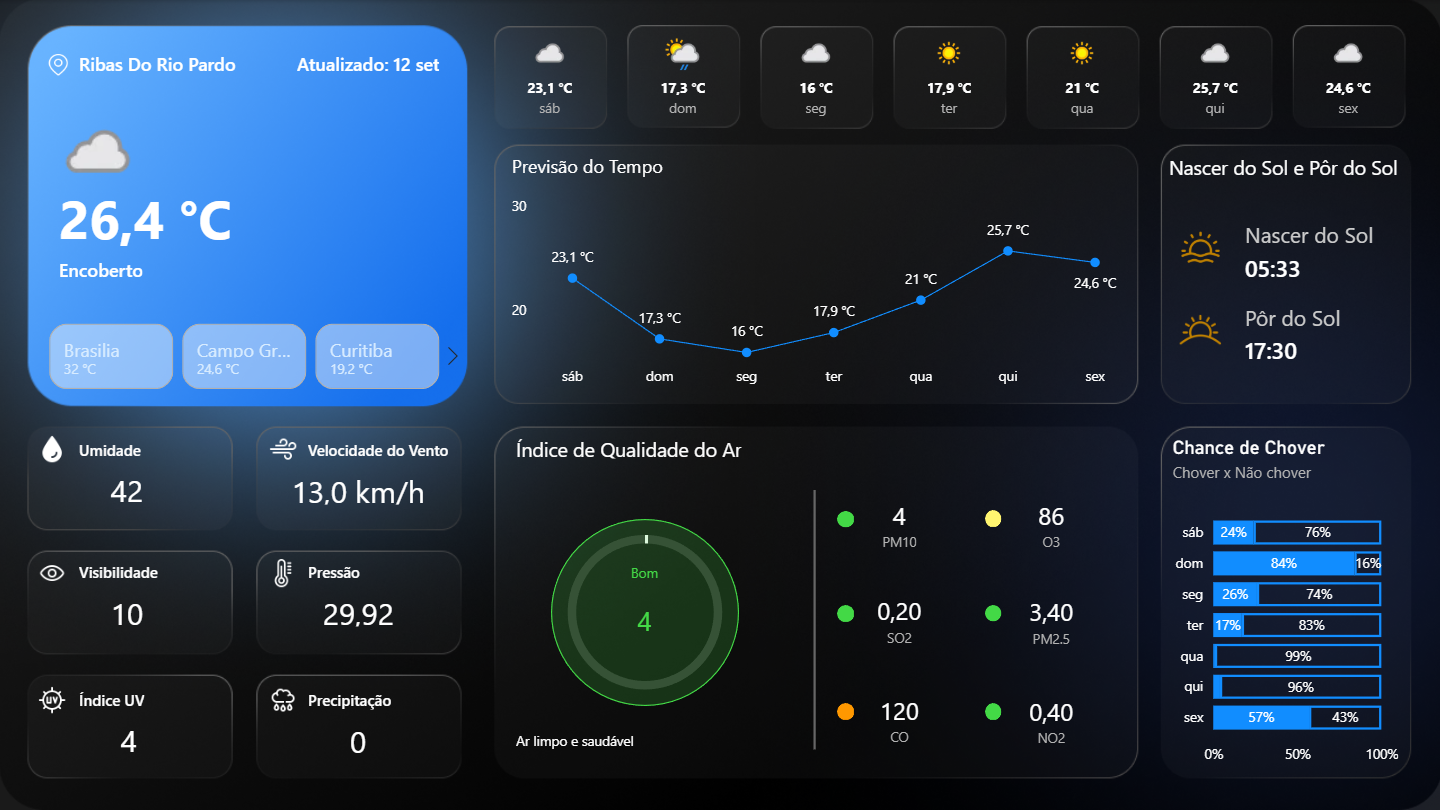

Layout of this report page (visuals, bound fields, positions):
{"tool":"powerbi","page":{"name":"Página 1","canvas":[1280,720],"ordinal":0},"visuals":[{"type":"donutChart","fields":{"Y":["Sum(Atual.current.air_quality.pm10)","_Metricas.Left_value_PM10"]},"box":[475.6,451.9,195,181.3],"z":0},{"type":"shape","box":[489.2,460.1,166.7,165.8],"z":1000},{"type":"advancedSlicerVisual","fields":{"Values":["Localidades.location.name"]},"box":[19.7,282.3,398.2,68.9],"z":2000},{"type":"shape","box":[53.5,156.6,263.6,72.9],"z":3000},{"type":"shape","box":[53.5,220.8,263.6,37.9],"z":4000},{"type":"shape","box":[71,37.9,141,37.9],"z":5000},{"type":"image","box":[35,47.7,36,19.5],"z":6000},{"type":"shape","box":[264.6,37.9,150.8,37.9],"z":7000},{"type":"cardVisual","fields":{"Data":["Min(Atual.current.condition.icon)"]},"box":[18.5,82.7,123.5,104.1],"z":8000},{"type":"image","box":[35,496,25.3,25.3],"z":9000},{"type":"shape","box":[71,496,71,22.4],"z":10000},{"type":"image","box":[239.3,386.1,25.3,25.3],"z":11000},{"type":"shape","box":[274.3,387.1,127.4,22.4],"z":12000},{"type":"image","box":[35,386.1,25.3,25.3],"z":13000},{"type":"shape","box":[71,387.1,127.4,22.4],"z":14000},{"type":"image","box":[239.3,496,25.3,25.3],"z":15000},{"type":"shape","box":[274.3,496,127.4,22.4],"z":16000},{"type":"image","box":[35,607.9,25.3,25.3],"z":17000},{"type":"shape","box":[71,608.9,71,22.4],"z":18000},{"type":"image","box":[239.3,607.9,25.3,25.3],"z":19000},{"type":"shape","box":[274.3,608.9,80.7,22.4],"z":20000},{"type":"cardVisual","fields":{"Data":["Min(Atual.current.humidity)"]},"box":[69.9,403.7,90.9,61],"z":21000},{"type":"cardVisual","fields":{"Data":["_Metricas.Velocidade_Vento"]},"box":[230.8,403.6,177.3,61.3],"z":22000},{"type":"cardVisual","fields":{"Data":["Min(Atual.current.pressure_in)"]},"box":[257.6,512.9,123.8,60.2],"z":23000},{"type":"cardVisual","fields":{"Data":["Min(Atual.current.vis_km)"]},"box":[70.2,512.9,91.4,60.2],"z":24000},{"type":"cardVisual","fields":{"Data":["Min(Atual.current.uv)"]},"box":[79.2,625.5,72.5,60.2],"z":25000},{"type":"cardVisual","fields":{"Data":["Min(Atual.current.precip_mm)"]},"box":[263.1,625.5,110.4,61.3],"z":26000},{"type":"advancedSlicerVisual","fields":{"Values":["Previsao_Dia.Day_Name"]},"box":[428.4,23.2,829.4,98.1],"z":27000},{"type":"lineChart","title":"Previsão do Tempo","fields":{"Category":["Previsao_Dia.Day_Name"],"Y":["Sum(Previsao_Dia.forecast.forecastday.day.avgtemp_c)"]},"box":[449.5,136.1,558.2,215.3],"z":28000},{"type":"shape","box":[1037.3,136.1,229,20],"z":29000},{"type":"shape","box":[1104.8,170.9,128.7,72.8],"z":30000},{"type":"shape","box":[1104.8,244.8,121.4,72.8],"z":31000},{"type":"shape","box":[1104.8,215.3,121.4,42.2],"z":32000},{"type":"shape","box":[1104.8,289.1,121.4,41.2],"z":33000},{"type":"image","box":[1035.2,268,61.2,48.5],"z":34000},{"type":"image","box":[1045.7,202.6,40.1,33.8],"z":35000},{"type":"hundredPercentStackedBarChart","title":"Chance de Chover","fields":{"Category":["Previsao_Dia.Day_Name"],"Y":["Sum(Previsao_Dia.forecast.forecastday.day.daily_chance_of_rain)","Atual.Left_value_Rain"]},"box":[1036,386.2,210.1,300.9],"z":36000},{"type":"shape","box":[458.2,386.5,229,20],"z":37000},{"type":"cardVisual","fields":{"Data":["Sum(Atual.current.air_quality.pm10)"]},"box":[732.5,420.9,132.1,87.5],"z":38000},{"type":"cardVisual","fields":{"Data":["Sum(Atual.current.air_quality.o3)"]},"box":[864.6,420.9,137.6,87.5],"z":39000},{"type":"cardVisual","fields":{"Data":["Sum(Atual.current.air_quality.so2)"]},"box":[732.5,507.4,132.1,86.5],"z":40000},{"type":"cardVisual","fields":{"Data":["Sum(Atual.current.air_quality.pm2_5)"]},"box":[864.6,508.4,137.6,86.5],"z":41000},{"type":"cardVisual","fields":{"Data":["Sum(Atual.current.air_quality.co)"]},"box":[732.5,594,132.1,87.5],"z":42000},{"type":"cardVisual","fields":{"Data":["Sum(Atual.current.air_quality.no2)"]},"box":[864.6,594.9,137.6,87.5],"z":43000},{"type":"shape","box":[743.4,452.8,15.5,14.6],"z":44000},{"type":"shape","box":[743.4,623.1,15.5,15.5],"z":45000},{"type":"shape","box":[743.4,536.6,15.5,15.5],"z":46000},{"type":"shape","box":[874.6,451.9,14.6,15.5],"z":47000},{"type":"shape","box":[874.6,536.6,14.6,14.6],"z":48000},{"type":"shape","box":[874.6,623.1,14.6,15.5],"z":49000},{"type":"shape","box":[703.3,434.6,40.1,230.5],"z":50000},{"type":"cardVisual","fields":{"Data":["Sum(Atual.current.air_quality.pm10)"]},"box":[506.5,499.2,132.1,87.5],"z":51000},{"type":"shape","box":[458.2,631.3,265.1,50.1],"z":51001}]}

Visuals, with their boxes in screenshot pixels (x1, y1, x2, y2), scaled from the page's 1280x720 canvas onto the 1440x810 screenshot:
donutChart - Sum(Atual.current.air_quality.pm10) x _Metricas.Left_value_PM10: pyautogui.locateOnScreen(535, 508, 754, 712)
shape: pyautogui.locateOnScreen(550, 518, 738, 704)
advancedSlicerVisual - Localidades.location.name: pyautogui.locateOnScreen(22, 318, 470, 395)
shape: pyautogui.locateOnScreen(60, 176, 357, 258)
shape: pyautogui.locateOnScreen(60, 248, 357, 291)
shape: pyautogui.locateOnScreen(80, 43, 238, 85)
image: pyautogui.locateOnScreen(39, 54, 80, 76)
shape: pyautogui.locateOnScreen(298, 43, 467, 85)
cardVisual - Min(Atual.current.condition.icon): pyautogui.locateOnScreen(21, 93, 160, 210)
image: pyautogui.locateOnScreen(39, 558, 68, 586)
shape: pyautogui.locateOnScreen(80, 558, 160, 583)
image: pyautogui.locateOnScreen(269, 434, 298, 463)
shape: pyautogui.locateOnScreen(309, 435, 452, 461)
image: pyautogui.locateOnScreen(39, 434, 68, 463)
shape: pyautogui.locateOnScreen(80, 435, 223, 461)
image: pyautogui.locateOnScreen(269, 558, 298, 586)
shape: pyautogui.locateOnScreen(309, 558, 452, 583)
image: pyautogui.locateOnScreen(39, 684, 68, 712)
shape: pyautogui.locateOnScreen(80, 685, 160, 710)
image: pyautogui.locateOnScreen(269, 684, 298, 712)
shape: pyautogui.locateOnScreen(309, 685, 399, 710)
cardVisual - Min(Atual.current.humidity): pyautogui.locateOnScreen(79, 454, 181, 523)
cardVisual - _Metricas.Velocidade_Vento: pyautogui.locateOnScreen(260, 454, 459, 523)
cardVisual - Min(Atual.current.pressure_in): pyautogui.locateOnScreen(290, 577, 429, 645)
cardVisual - Min(Atual.current.vis_km): pyautogui.locateOnScreen(79, 577, 182, 645)
cardVisual - Min(Atual.current.uv): pyautogui.locateOnScreen(89, 704, 171, 771)
cardVisual - Min(Atual.current.precip_mm): pyautogui.locateOnScreen(296, 704, 420, 773)
advancedSlicerVisual - Previsao_Dia.Day_Name: pyautogui.locateOnScreen(482, 26, 1415, 136)
"Previsão do Tempo" lineChart: pyautogui.locateOnScreen(506, 153, 1134, 395)
shape: pyautogui.locateOnScreen(1167, 153, 1425, 176)
shape: pyautogui.locateOnScreen(1243, 192, 1388, 274)
shape: pyautogui.locateOnScreen(1243, 275, 1379, 357)
shape: pyautogui.locateOnScreen(1243, 242, 1379, 290)
shape: pyautogui.locateOnScreen(1243, 325, 1379, 372)
image: pyautogui.locateOnScreen(1165, 302, 1233, 356)
image: pyautogui.locateOnScreen(1176, 228, 1222, 266)
"Chance de Chover" hundredPercentStackedBarChart: pyautogui.locateOnScreen(1166, 434, 1402, 773)
shape: pyautogui.locateOnScreen(515, 435, 773, 457)
cardVisual - Sum(Atual.current.air_quality.pm10): pyautogui.locateOnScreen(824, 474, 973, 572)
cardVisual - Sum(Atual.current.air_quality.o3): pyautogui.locateOnScreen(973, 474, 1127, 572)
cardVisual - Sum(Atual.current.air_quality.so2): pyautogui.locateOnScreen(824, 571, 973, 668)
cardVisual - Sum(Atual.current.air_quality.pm2_5): pyautogui.locateOnScreen(973, 572, 1127, 669)
cardVisual - Sum(Atual.current.air_quality.co): pyautogui.locateOnScreen(824, 668, 973, 767)
cardVisual - Sum(Atual.current.air_quality.no2): pyautogui.locateOnScreen(973, 669, 1127, 768)
shape: pyautogui.locateOnScreen(836, 509, 854, 526)
shape: pyautogui.locateOnScreen(836, 701, 854, 718)
shape: pyautogui.locateOnScreen(836, 604, 854, 621)
shape: pyautogui.locateOnScreen(984, 508, 1000, 526)
shape: pyautogui.locateOnScreen(984, 604, 1000, 620)
shape: pyautogui.locateOnScreen(984, 701, 1000, 718)
shape: pyautogui.locateOnScreen(791, 489, 836, 748)
cardVisual - Sum(Atual.current.air_quality.pm10): pyautogui.locateOnScreen(570, 562, 718, 660)
shape: pyautogui.locateOnScreen(515, 710, 814, 767)
